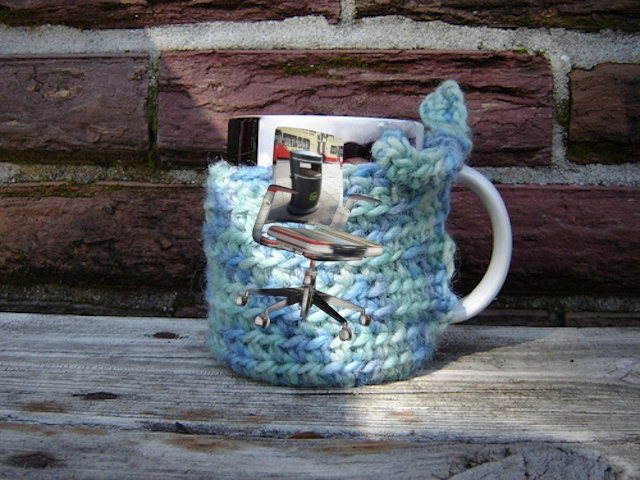desk_chair: (229, 113, 385, 352)
